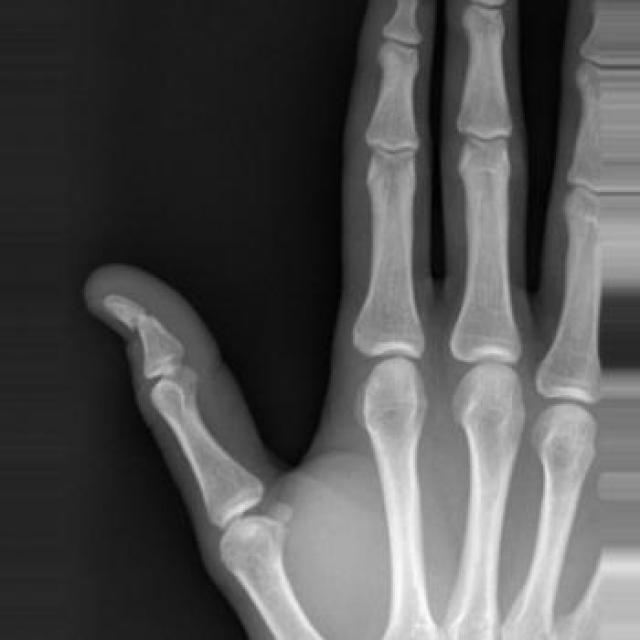Fracture: (123, 302, 159, 337)
